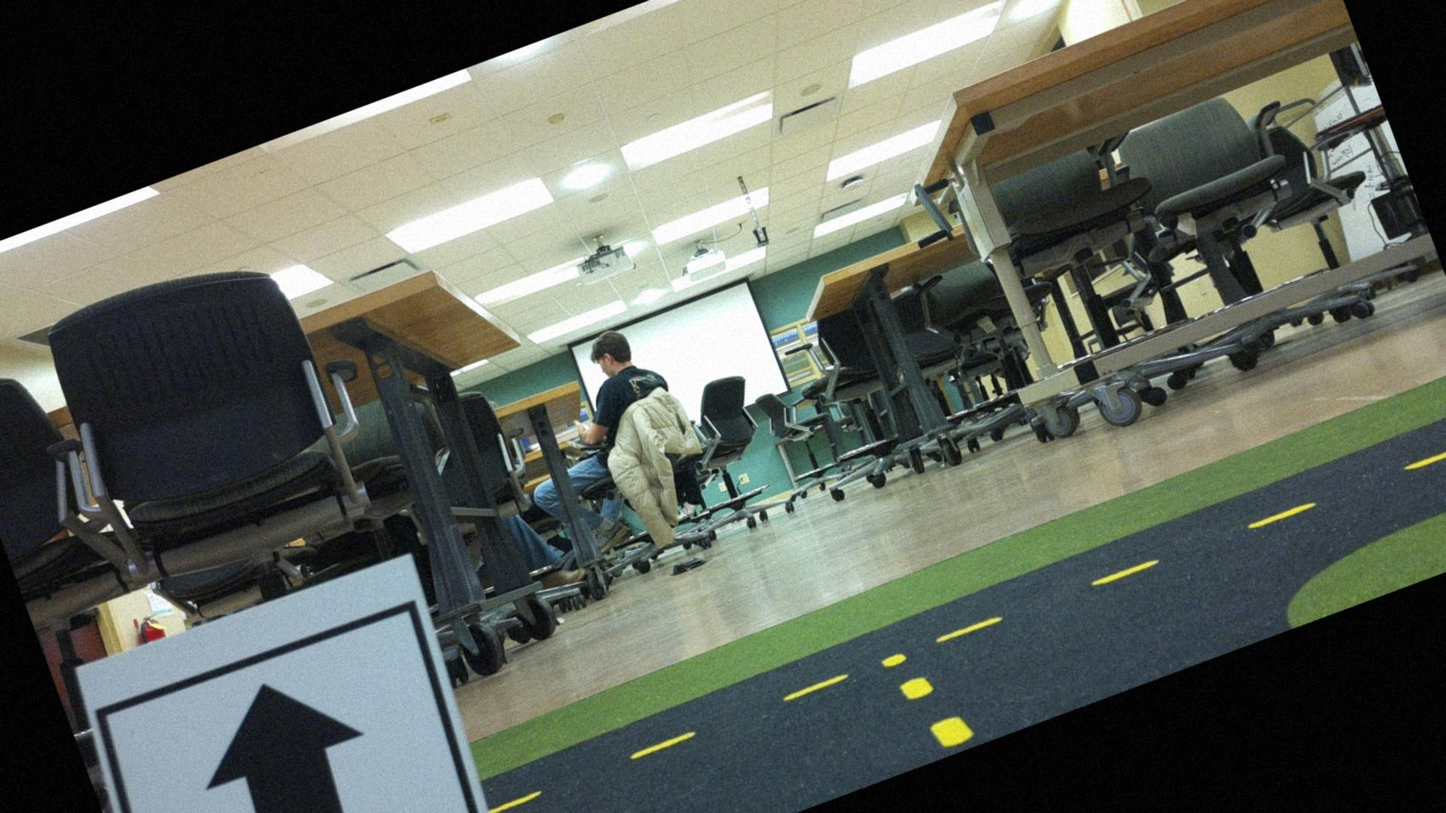gostraight: (62, 545, 523, 812)
yellowline: (489, 428, 1445, 812), (883, 634, 975, 759)
